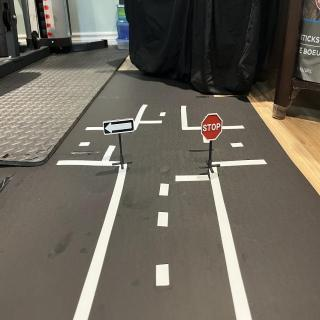sign_oneway_left: (103, 116, 137, 139)
sign_stop: (202, 114, 224, 141)
